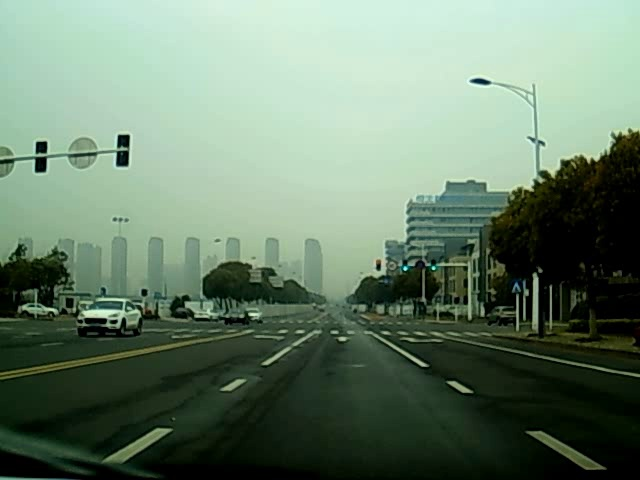Traffic_Light_go: (401, 257, 408, 274), (430, 257, 437, 273)
